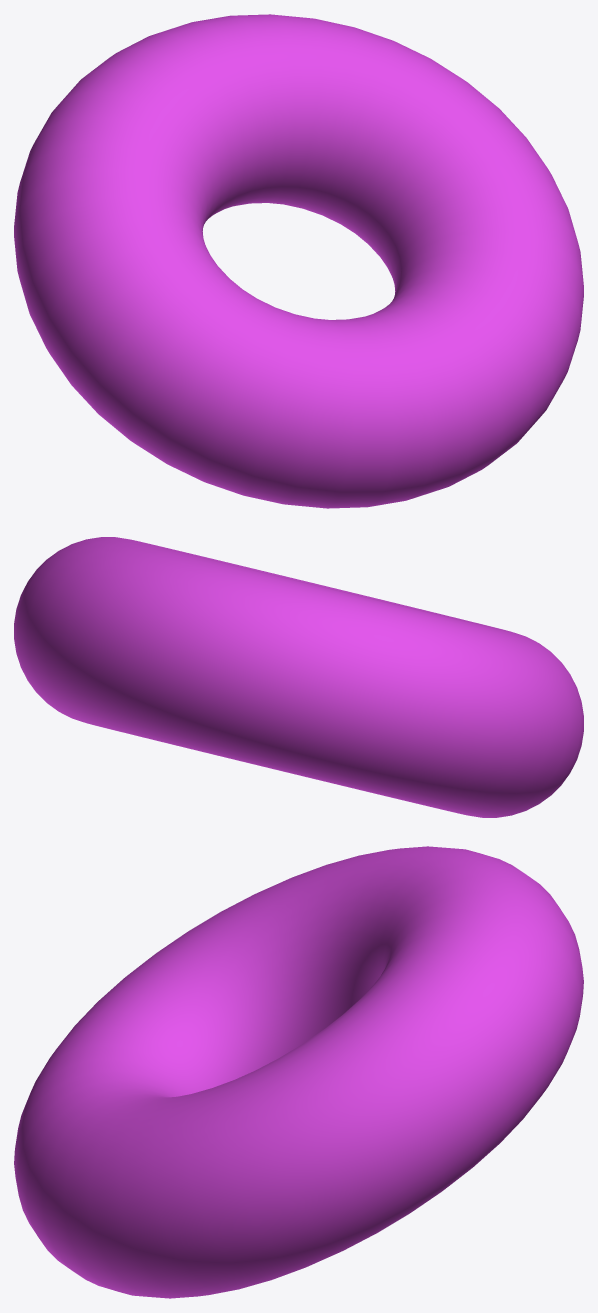
3 views of the same model, one above another, from view 1: azimuth 30°, elevation 25°; view 2: azimuth 150°, elevation 25°; view 3: azimuth 270°, elevation 25° (orthographic). The views are drawn at different scales.
Visible parts, largest first — view 1: Torus; view 2: Torus; view 3: Torus.
Part boxes in pixels (x1=…): Torus: x1=14, y1=14, x2=583, y2=508; Torus: x1=14, y1=537, x2=583, y2=817; Torus: x1=14, y1=846, x2=583, y2=1298.
Bounding box in the file's own units: 4.28 × 2.75 × 3.94.
